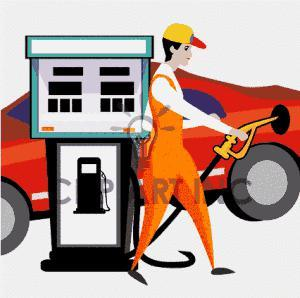car: (1, 56, 300, 249)
person: (136, 20, 234, 290)
